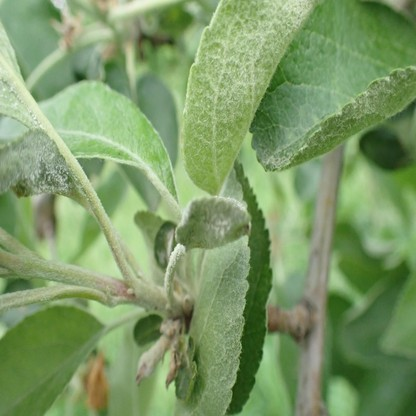powdery_mildew: (252, 4, 416, 173), (183, 2, 313, 195), (191, 236, 250, 416), (1, 127, 81, 200), (176, 196, 250, 247)
